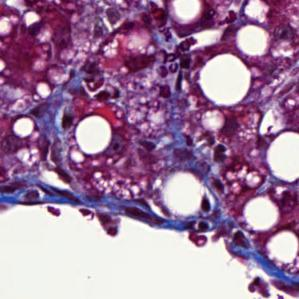inflammation: (177, 125, 231, 168), (53, 108, 78, 133)
